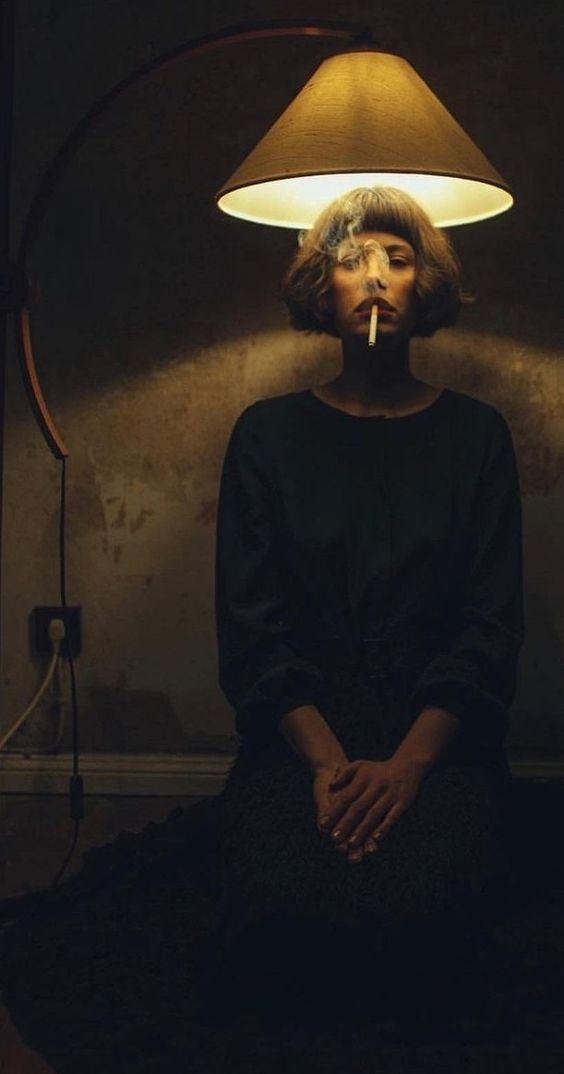cigarette: (368, 304, 378, 348)
